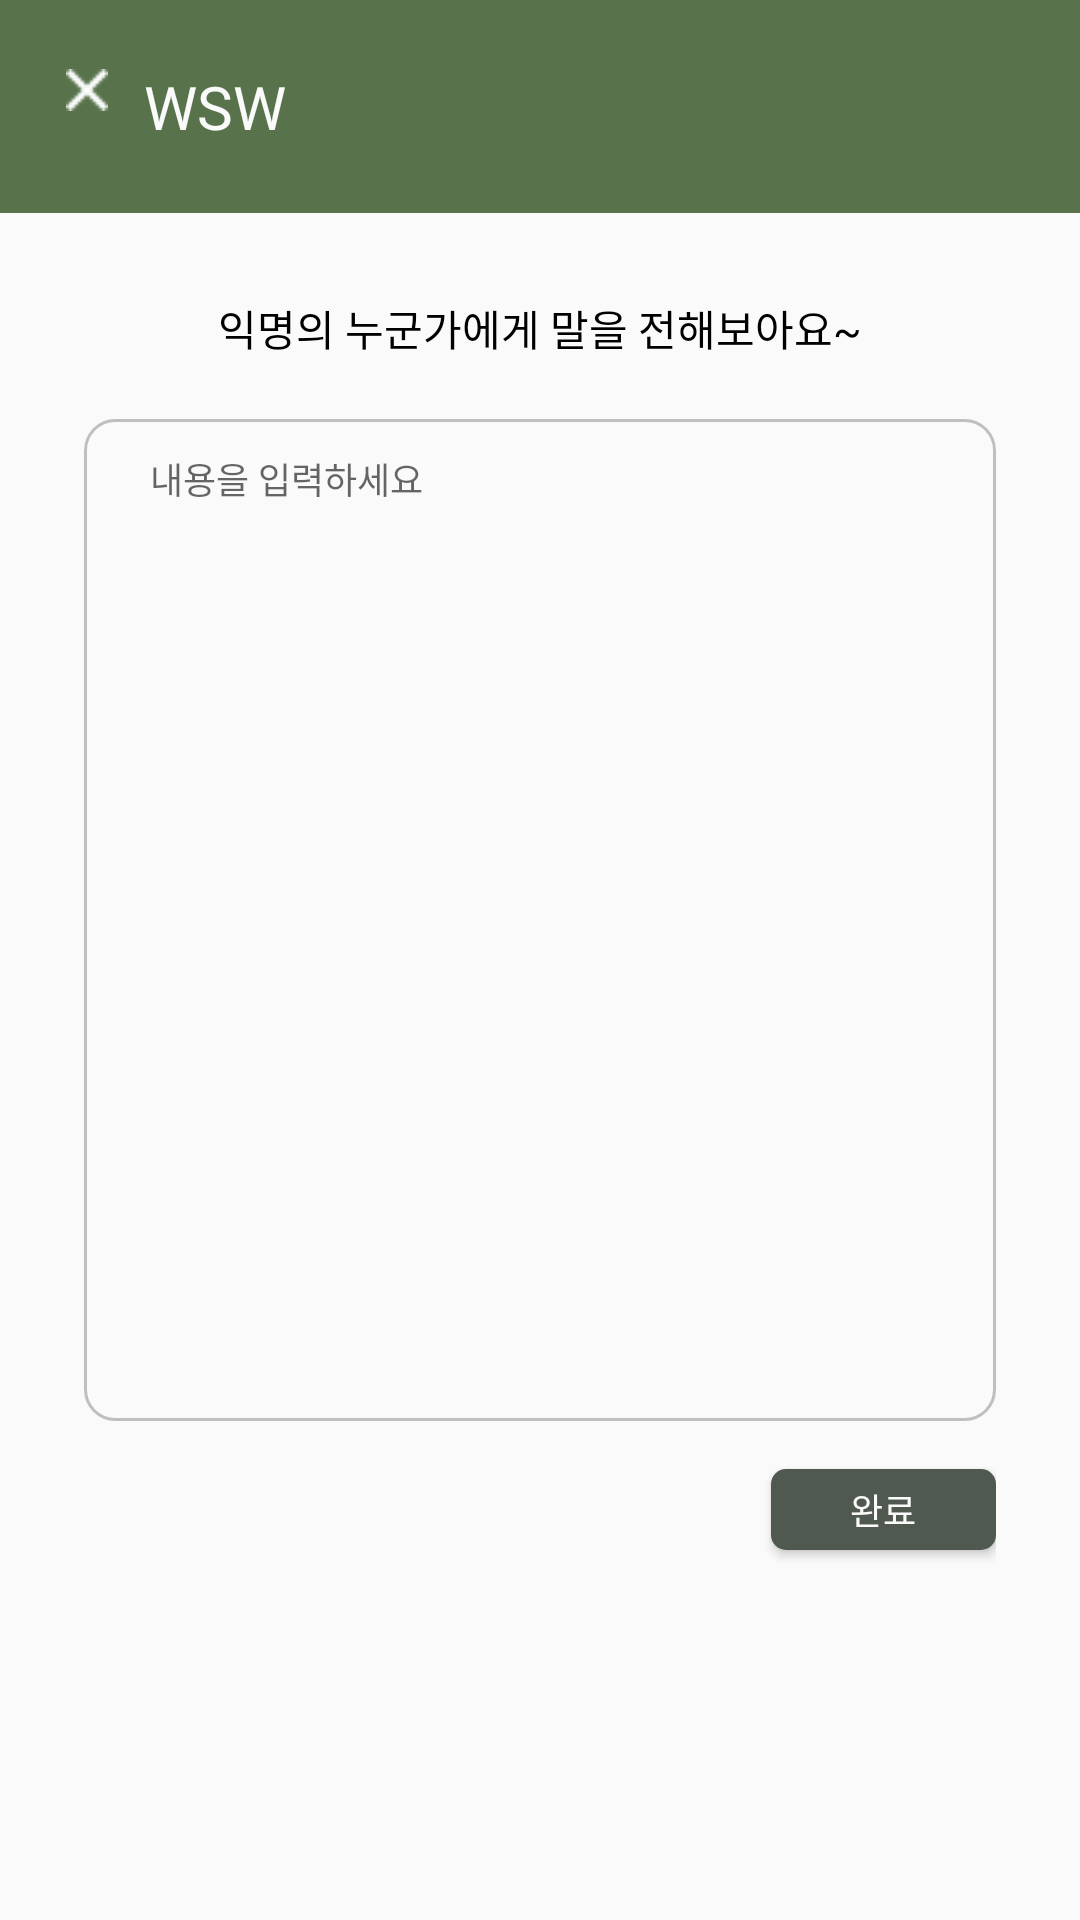

Point at icon controls on the screen. Image size 1080 × 1920, points as point (x, y).
exit: point (87, 90)
